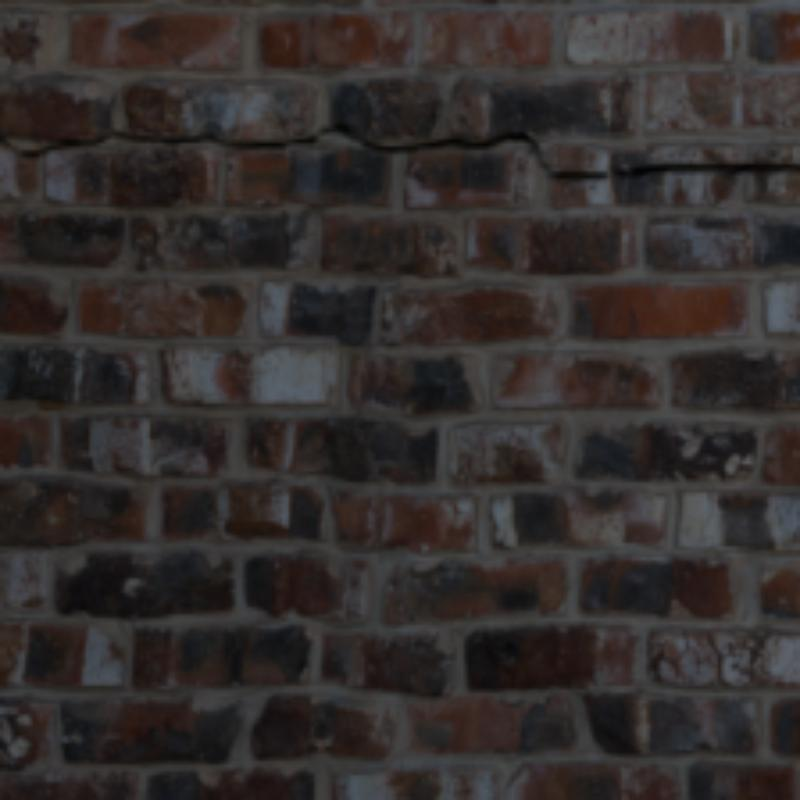crack: (218, 125, 796, 175), (0, 132, 218, 154), (707, 629, 729, 689)
